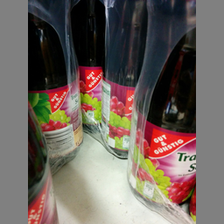juice: (128, 1, 195, 206), (28, 2, 86, 165), (105, 3, 150, 157), (69, 3, 108, 130)
